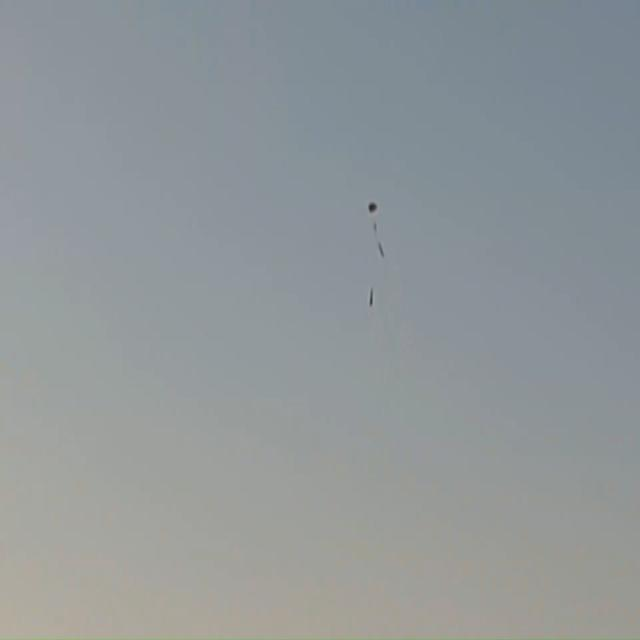Rocket: (369, 286, 374, 306)
